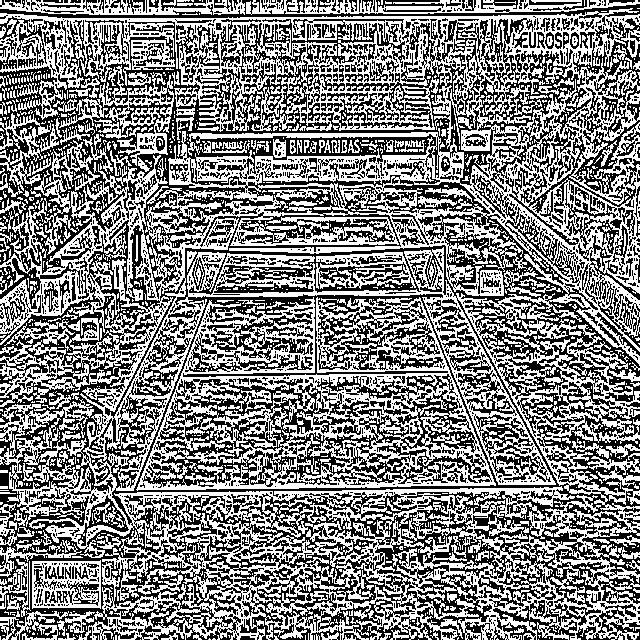left side: (387, 214, 557, 486), (73, 216, 240, 492)
player: (71, 390, 133, 549), (328, 162, 346, 212)
